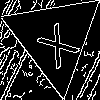X: (29, 14, 81, 70)
